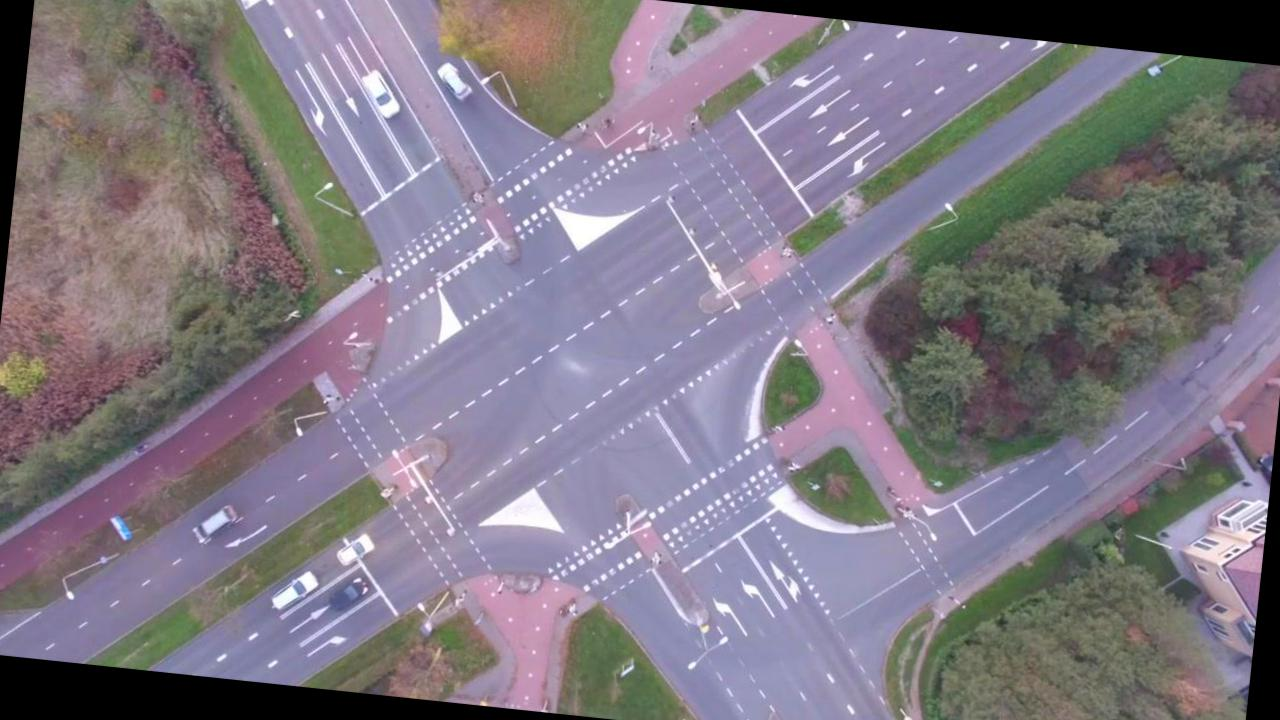vehicle: (356, 66, 405, 121), (188, 498, 240, 549), (267, 566, 320, 616), (433, 59, 476, 102), (326, 573, 371, 613), (334, 528, 376, 570)
